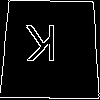K: (25, 25, 58, 72)
